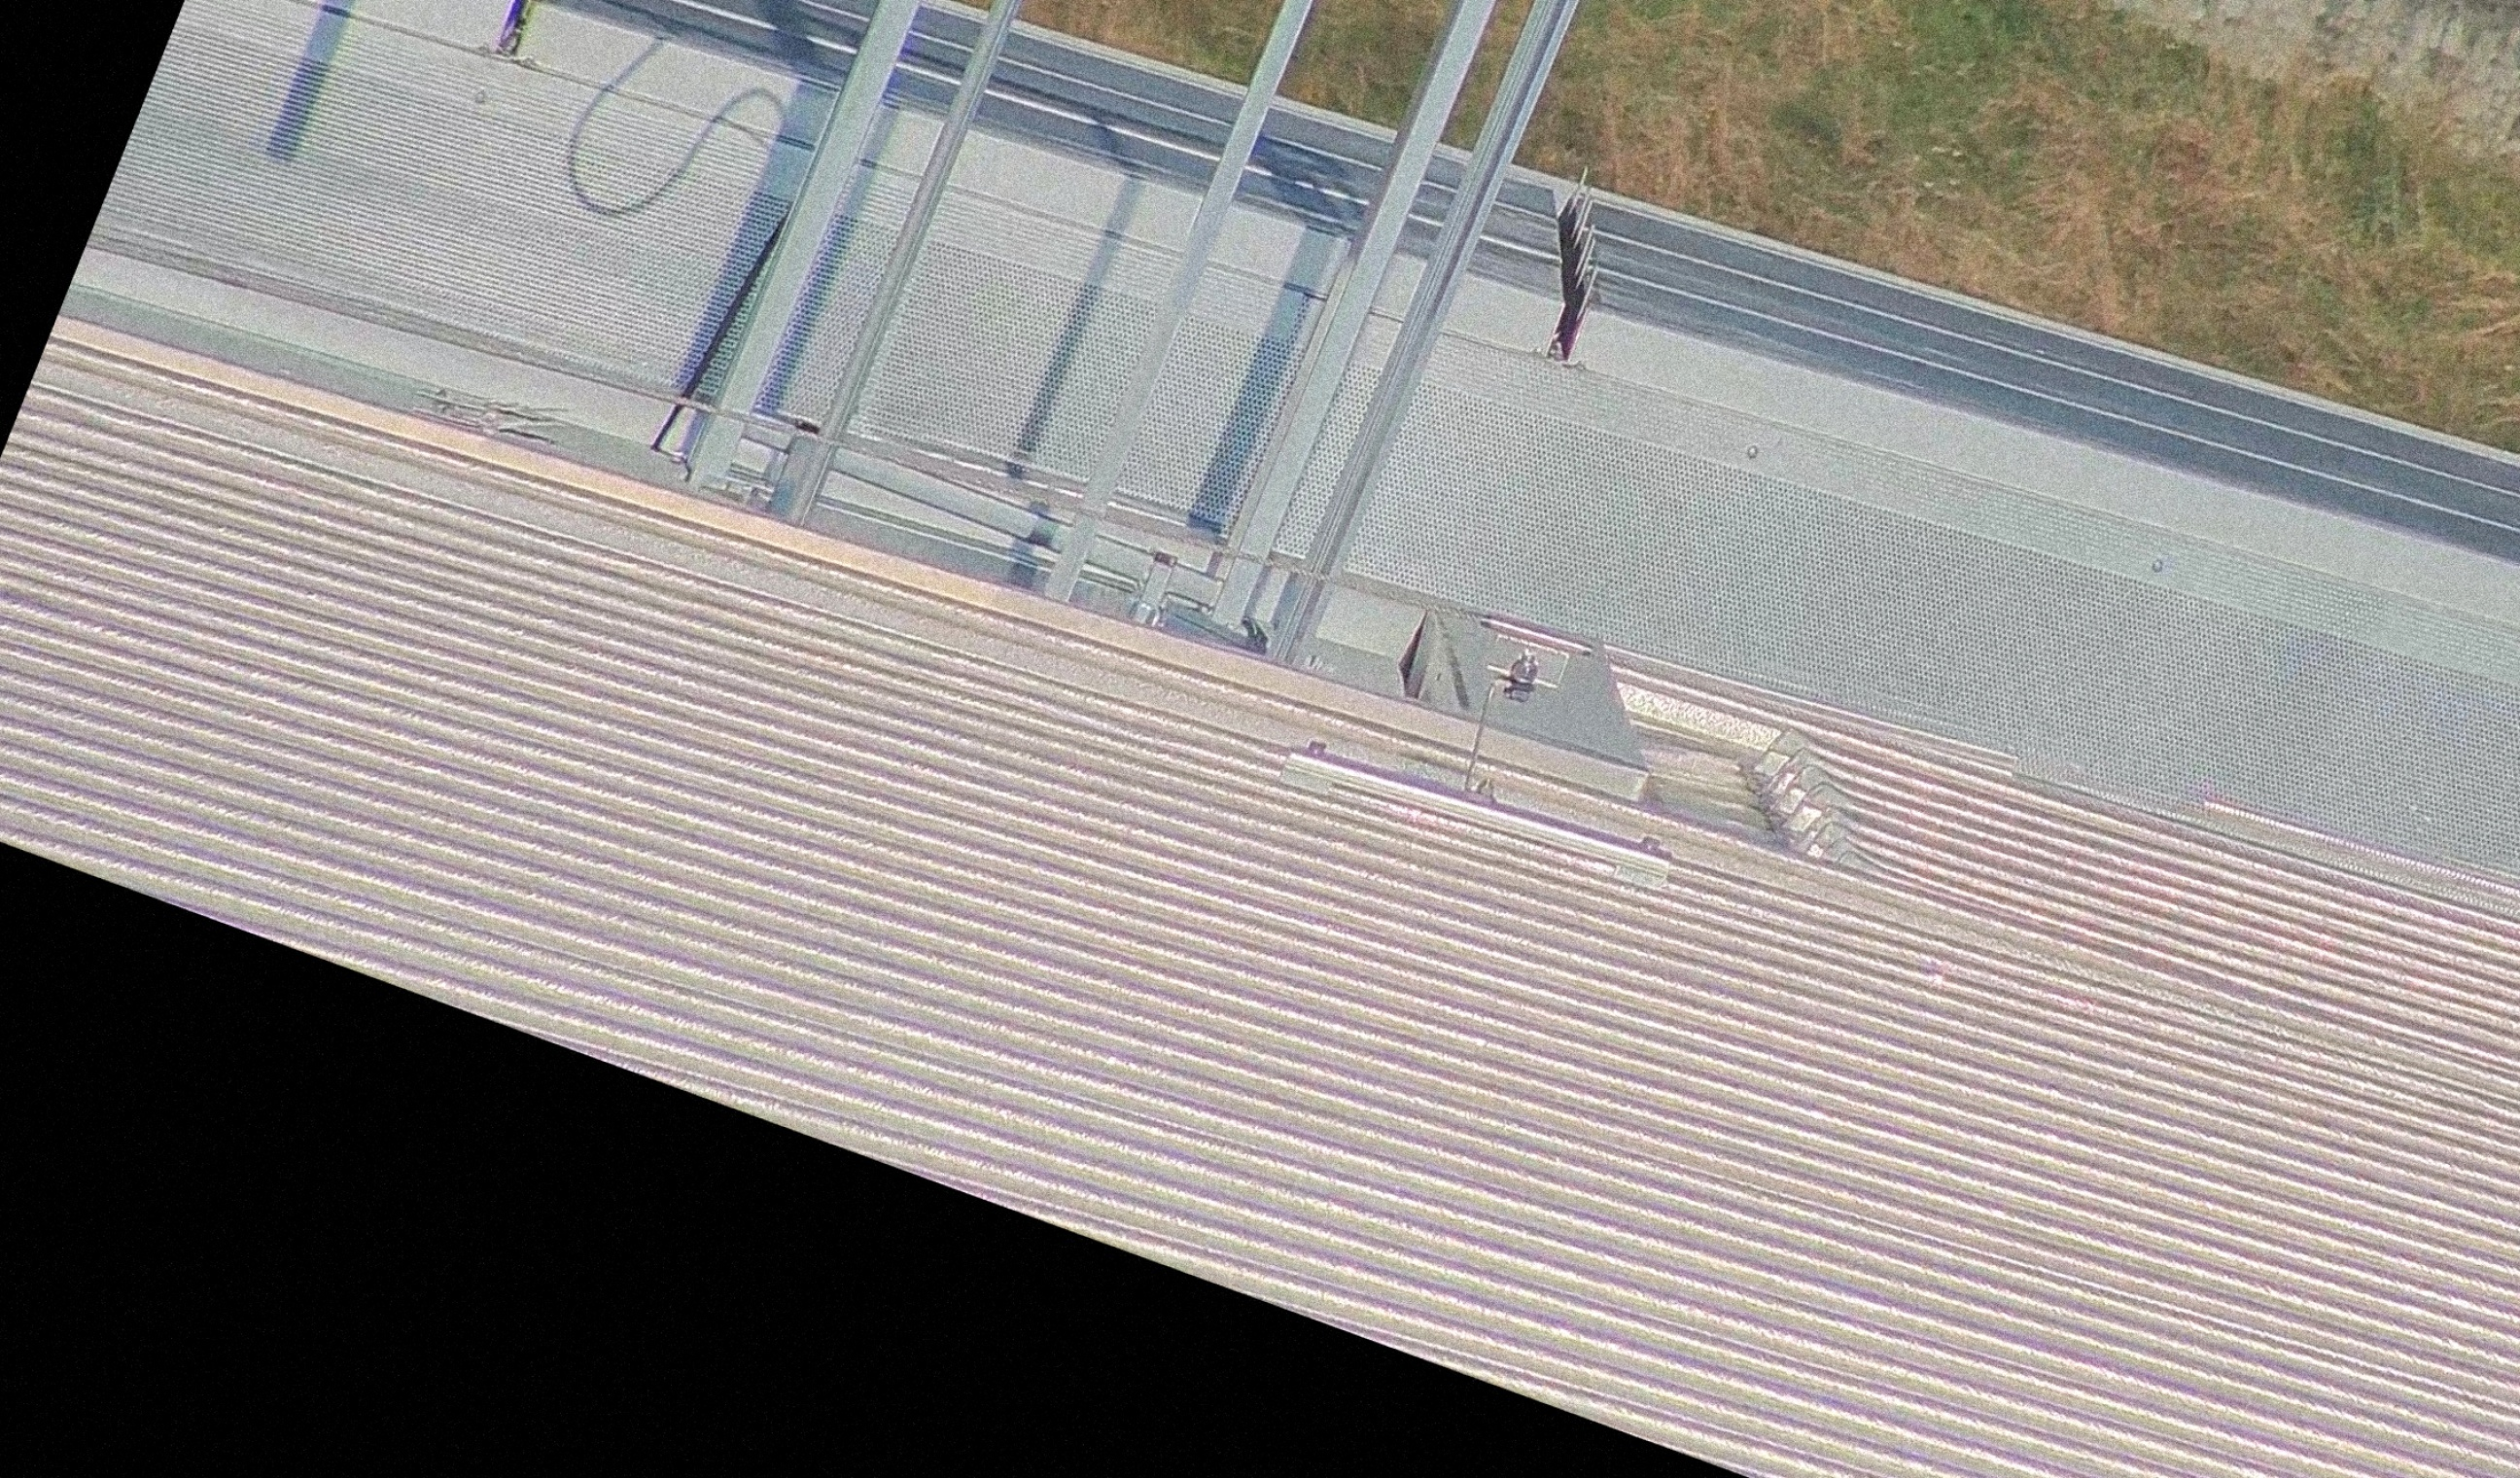Other: (1470, 146, 1665, 378)
